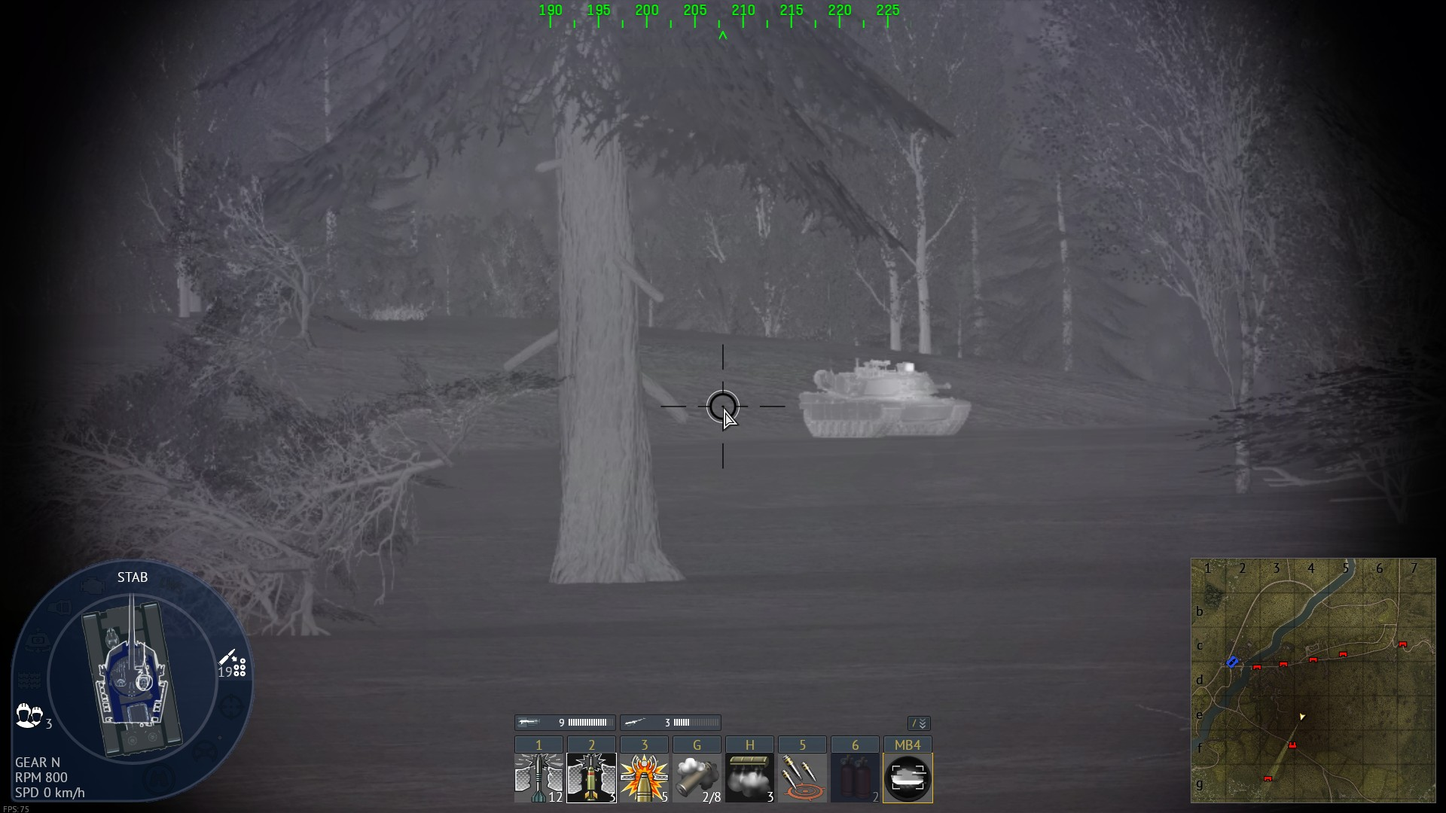abrams: (798, 359, 972, 440)
